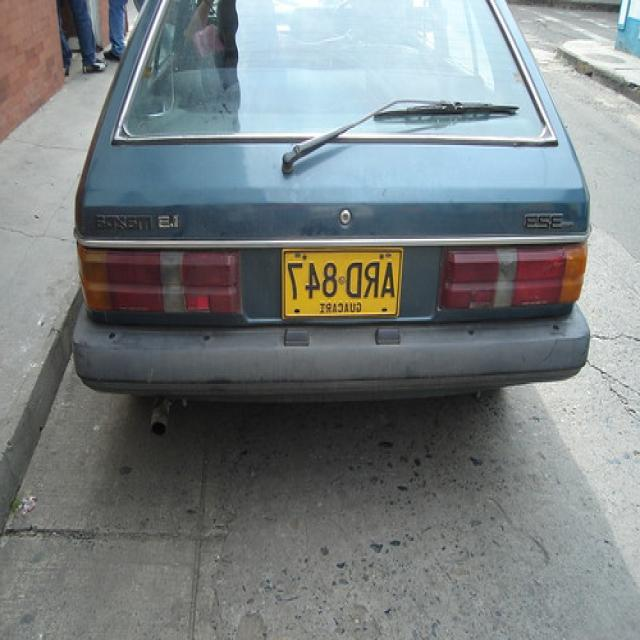placas: (285, 256, 400, 299)
